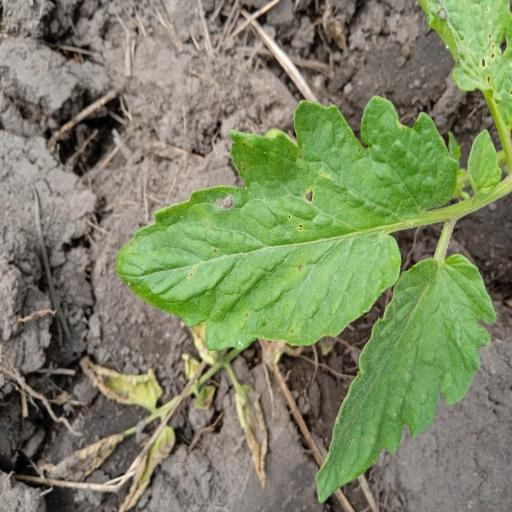Tomato_healthy: (109, 92, 458, 363), (308, 250, 495, 510)
